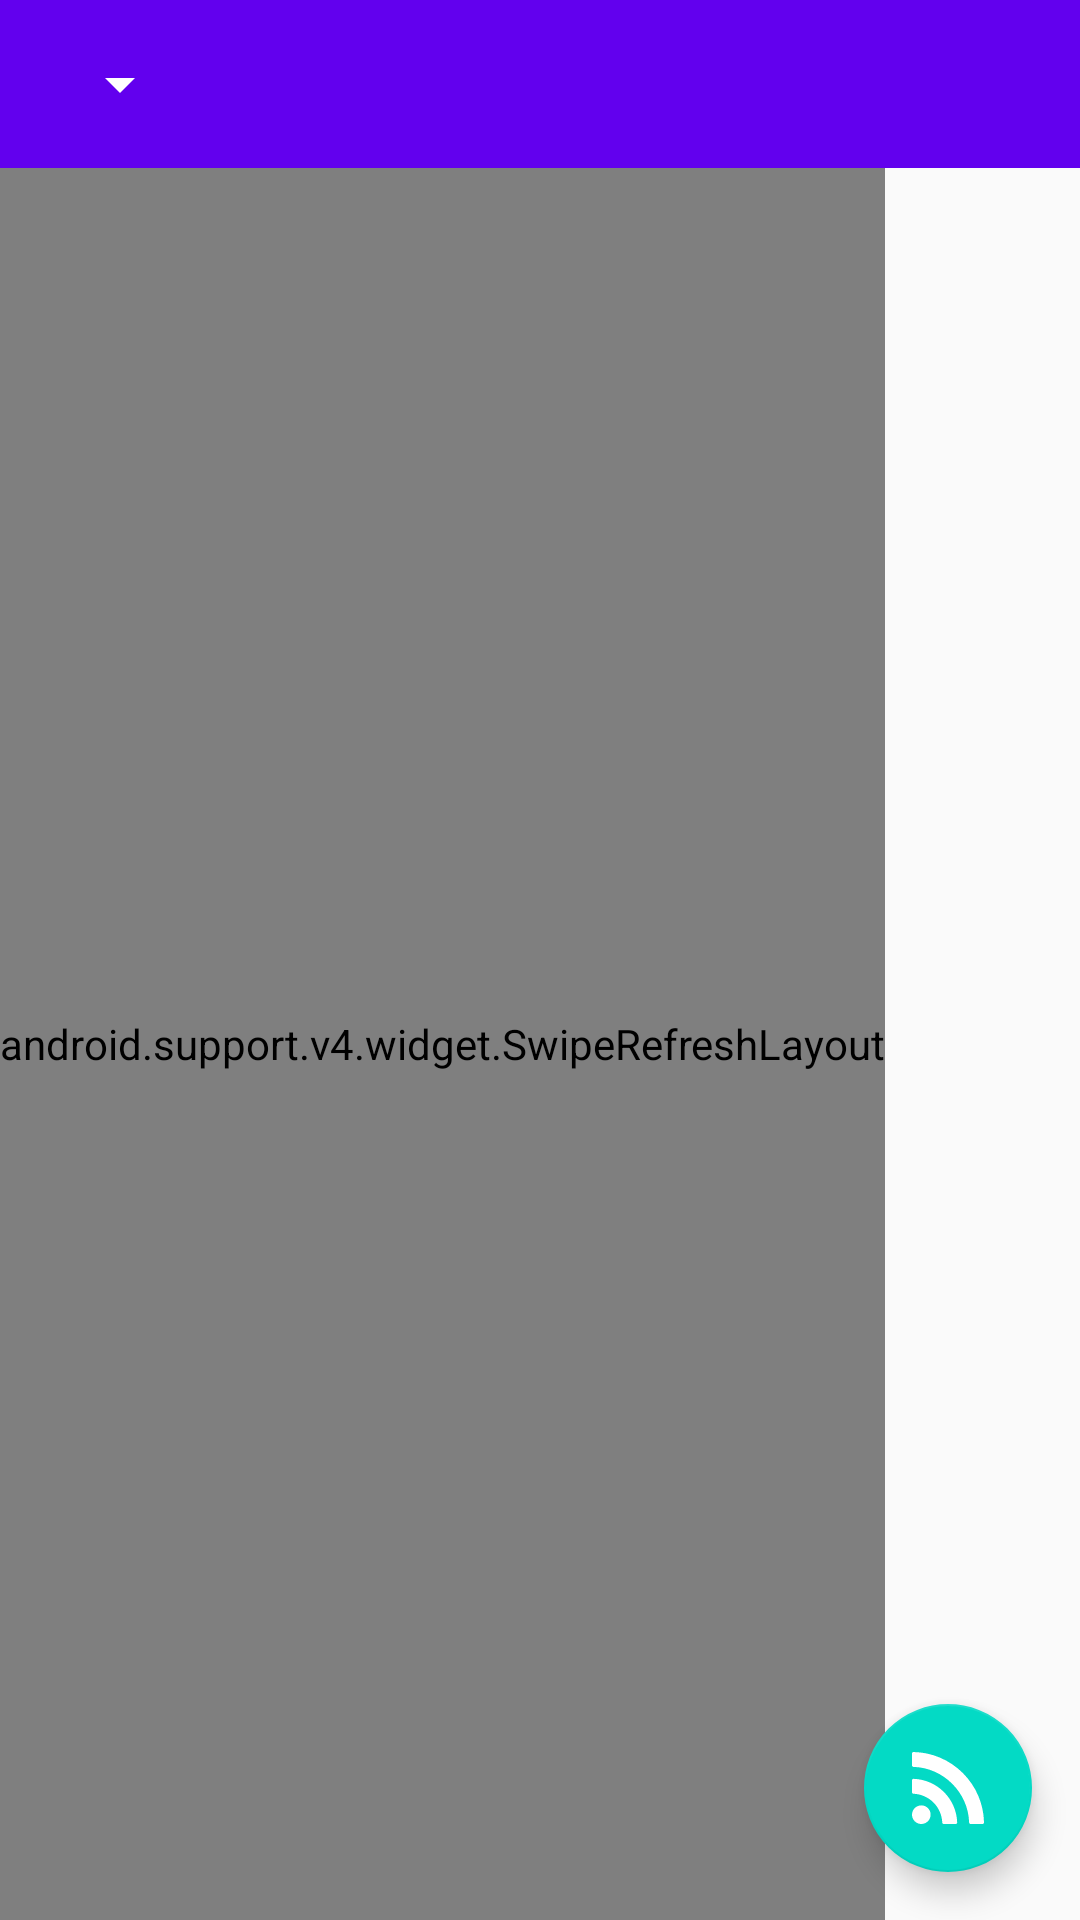

Screen size 1080px x 1920px. Icon name, then its center in pixels as [x,y]:
subscribe rss: [948,1788]
